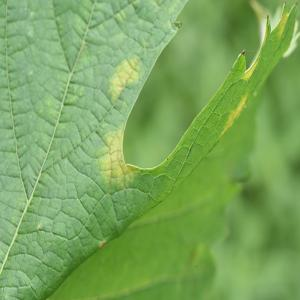Folha: (0, 0, 300, 300)
Fungo: (107, 53, 140, 105), (97, 126, 125, 184), (219, 89, 250, 138), (242, 58, 261, 82), (276, 12, 290, 39), (173, 20, 182, 28), (98, 240, 106, 248), (252, 90, 257, 97), (241, 48, 245, 56), (266, 14, 268, 20), (283, 0, 285, 4)
